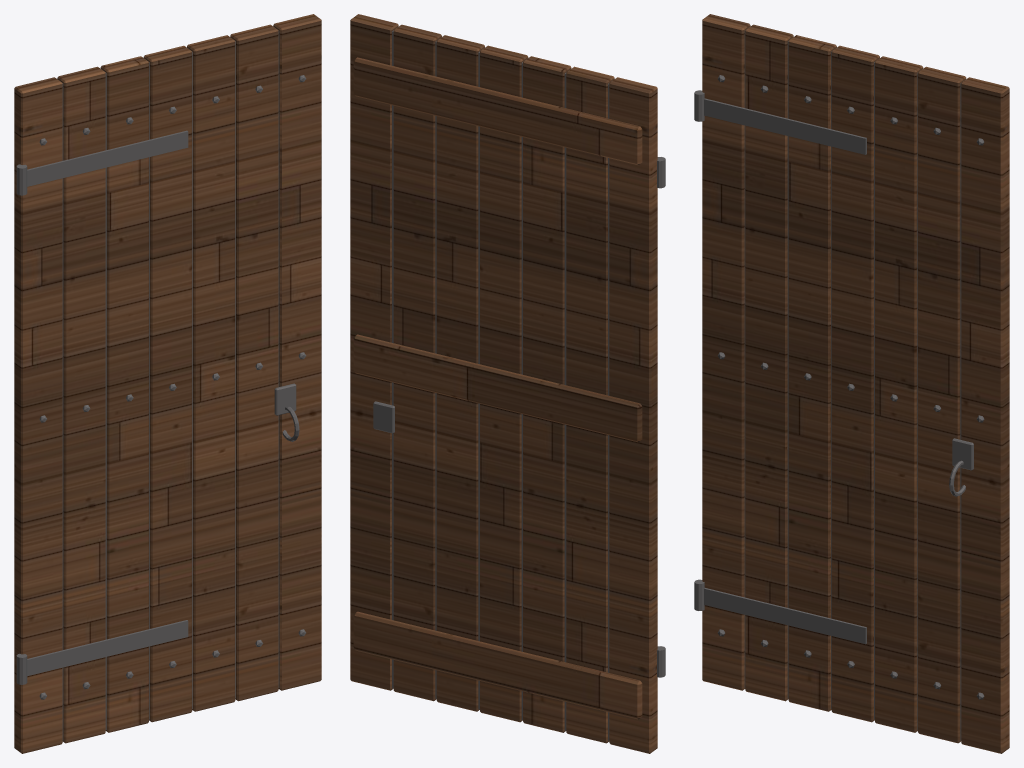
Rendered from gate_leaf.glb.
3 views of the same model, side by side, from view 1: azimuth 30°, elevation 25°; view 2: azimuth 150°, elevation 25°; view 3: azimuth 330°, elevation 25° (orthographic).
Visible parts, largest first — view 1: gate_leaf_wood, gate_leaf_iron, gate_leaf_dark; view 2: gate_leaf_wood, gate_leaf_dark, gate_leaf_iron; view 3: gate_leaf_wood, gate_leaf_iron, gate_leaf_dark.
Boxes of the visible parts, left/top/right/bottom form: gate_leaf_wood: left=14, top=14, right=321, bottom=753; gate_leaf_iron: left=16, top=75, right=306, bottom=699; gate_leaf_dark: left=62, top=30, right=279, bottom=740; gate_leaf_wood: left=350, top=14, right=657, bottom=753; gate_leaf_dark: left=392, top=30, right=609, bottom=741; gate_leaf_iron: left=373, top=157, right=665, bottom=677; gate_leaf_wood: left=702, top=14, right=1009, bottom=753; gate_leaf_iron: left=694, top=75, right=984, bottom=699; gate_leaf_dark: left=744, top=30, right=961, bottom=740.
Bounding box in the file's own units: 1.19 × 2.45 × 0.178.
3 materials, 1 textured.
